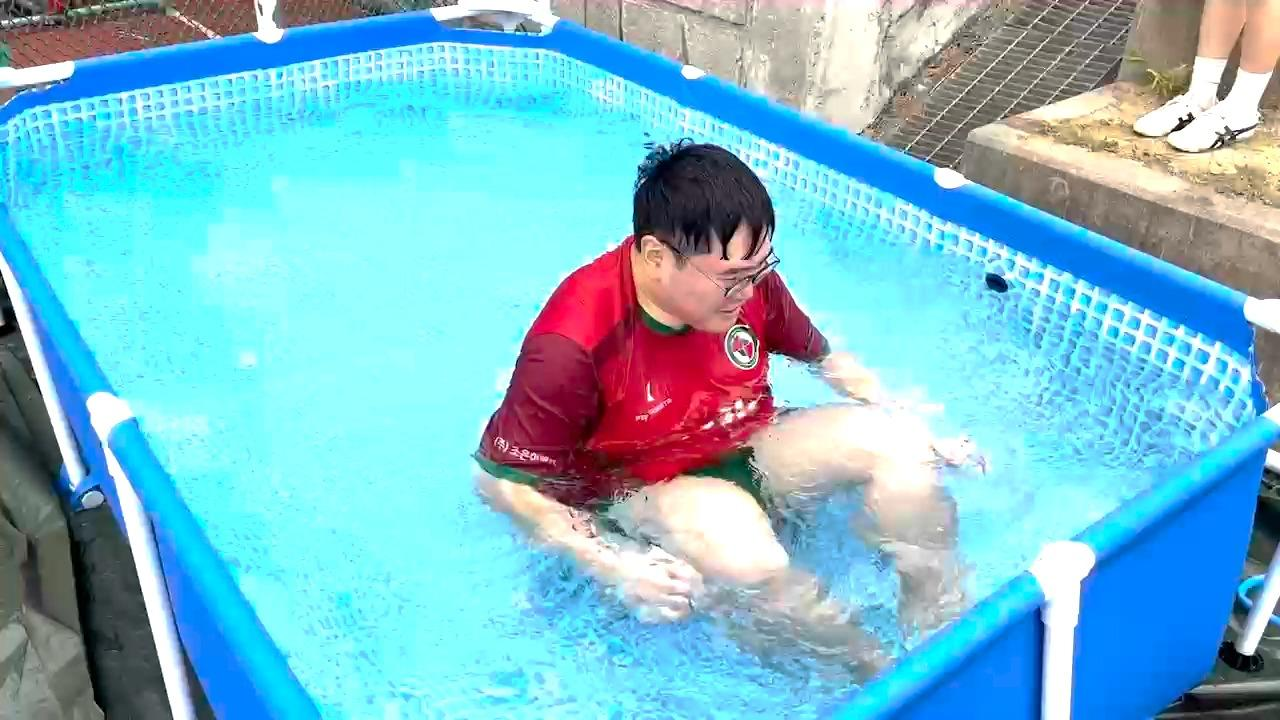Swimming: (392, 75, 986, 678)
